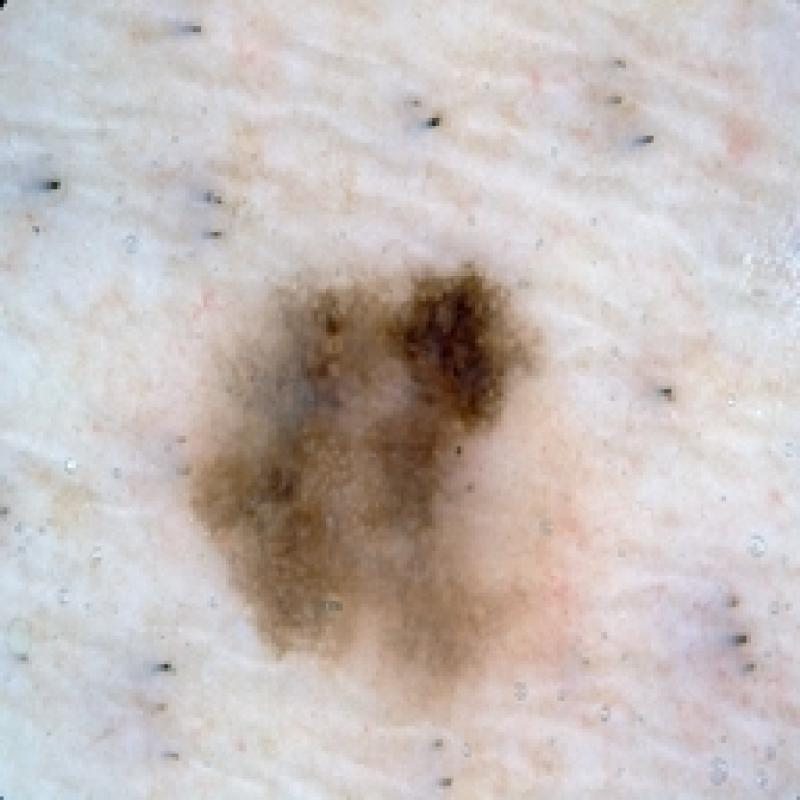malignant: (161, 255, 628, 700)
